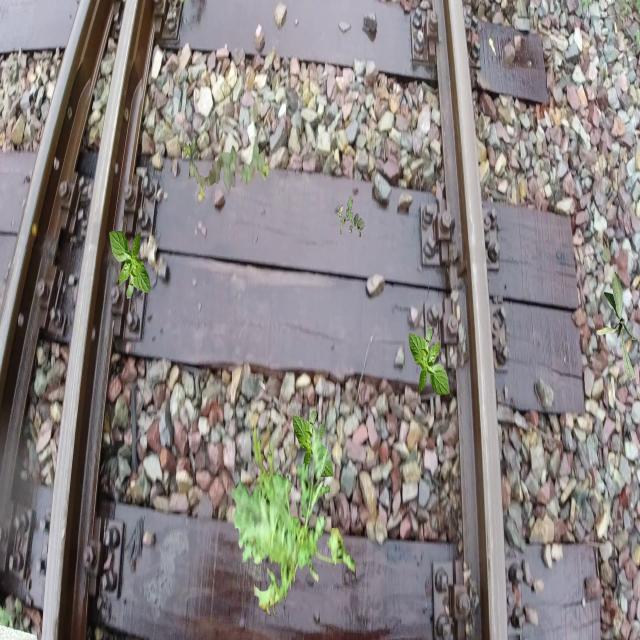Plant: (231, 423, 356, 619), (183, 134, 270, 202), (597, 272, 637, 382), (409, 327, 451, 398), (109, 228, 150, 299), (293, 409, 334, 480), (337, 196, 364, 237)
